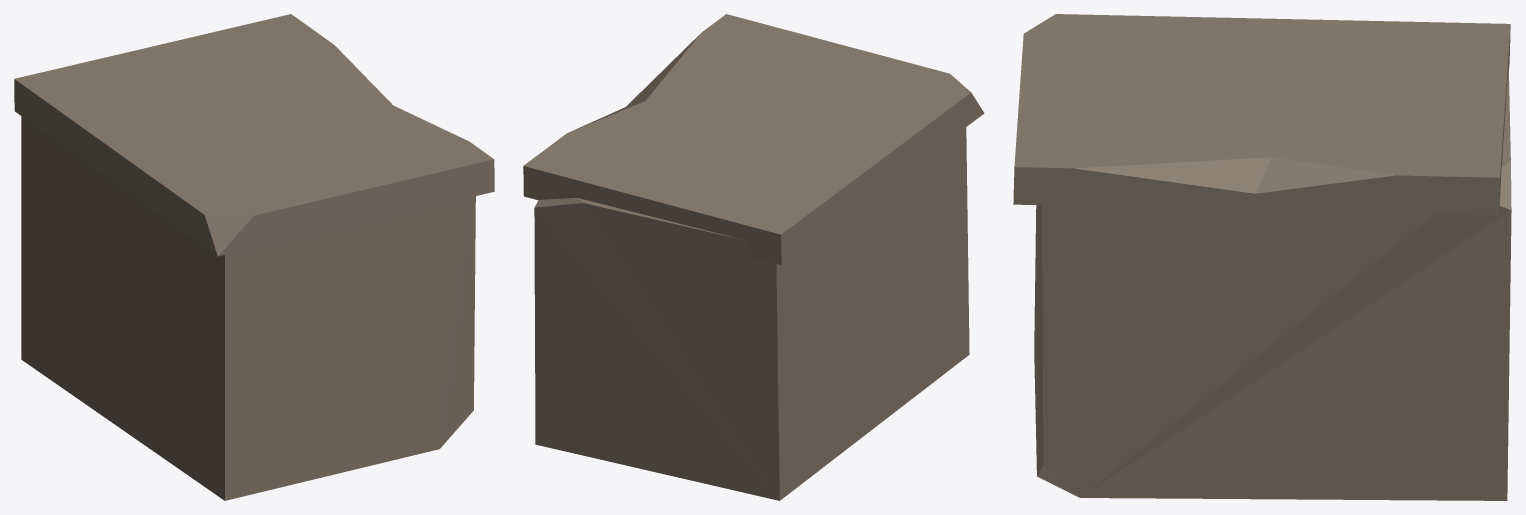
The model's file is carton.glb.
The picture shows the model from 3 angles, left to right: view 1: azimuth 30°, elevation 25°; view 2: azimuth 150°, elevation 25°; view 3: azimuth 270°, elevation 25°; orthographic projection. The views are drawn at different scales.
Parts seen in each view (by area): view 1: carton; view 2: carton; view 3: carton.
Part boxes in pixels (left/top/right/bottom): carton: left=14, top=14, right=494, bottom=500; carton: left=523, top=14, right=984, bottom=500; carton: left=1013, top=14, right=1511, bottom=500.
Bounding box in the file's own units: 0.2058 × 0.2068 × 0.2741.
